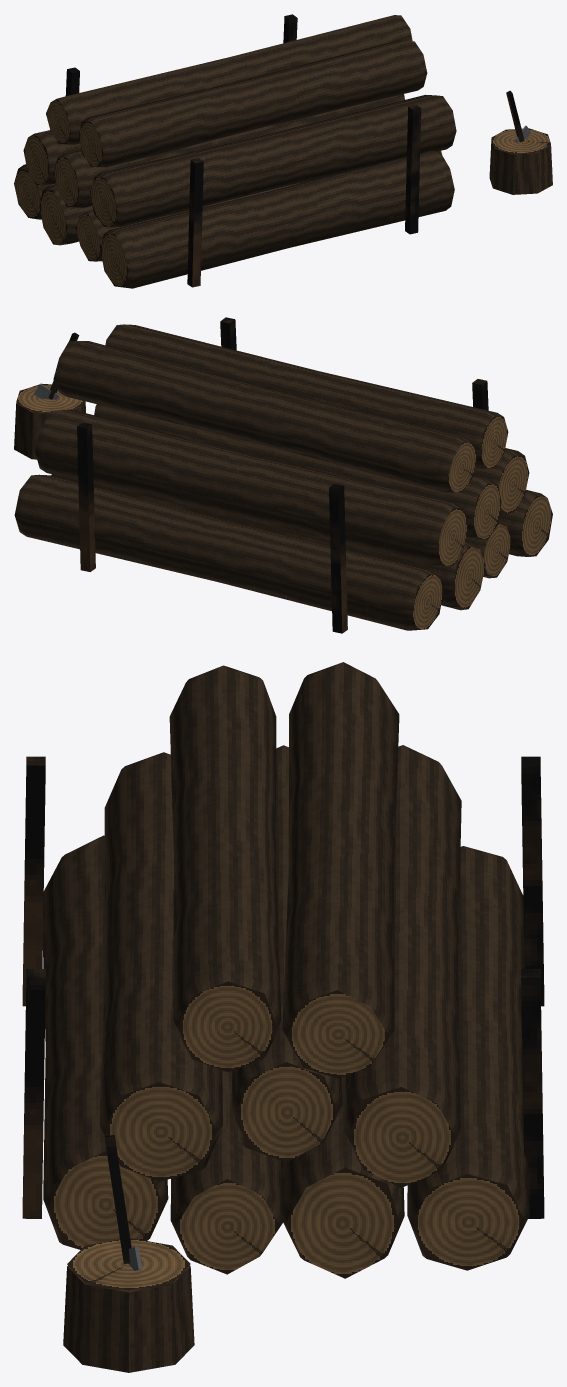
The model's file is log_pile.glb.
The picture shows the model from 3 angles, top to bottom: view 1: azimuth 30°, elevation 25°; view 2: azimuth 150°, elevation 25°; view 3: azimuth 270°, elevation 25°; orthographic projection. The views are drawn at different scales.
Visible parts, largest first — view 1: logs-col, detail; view 2: logs-col, detail; view 3: logs-col, detail.
Boxes of the visible parts, x1,y1,x2,y2 form: logs-col: (14,15,456,288); detail: (65,14,552,287); logs-col: (14,324,552,630); detail: (14,317,488,633); logs-col: (43,662,529,1278); detail: (22,756,544,1372).
Size of what is drawn, in the model's own units: 5.31 by 1.72 by 2.7.
4 materials, 4 textured.
